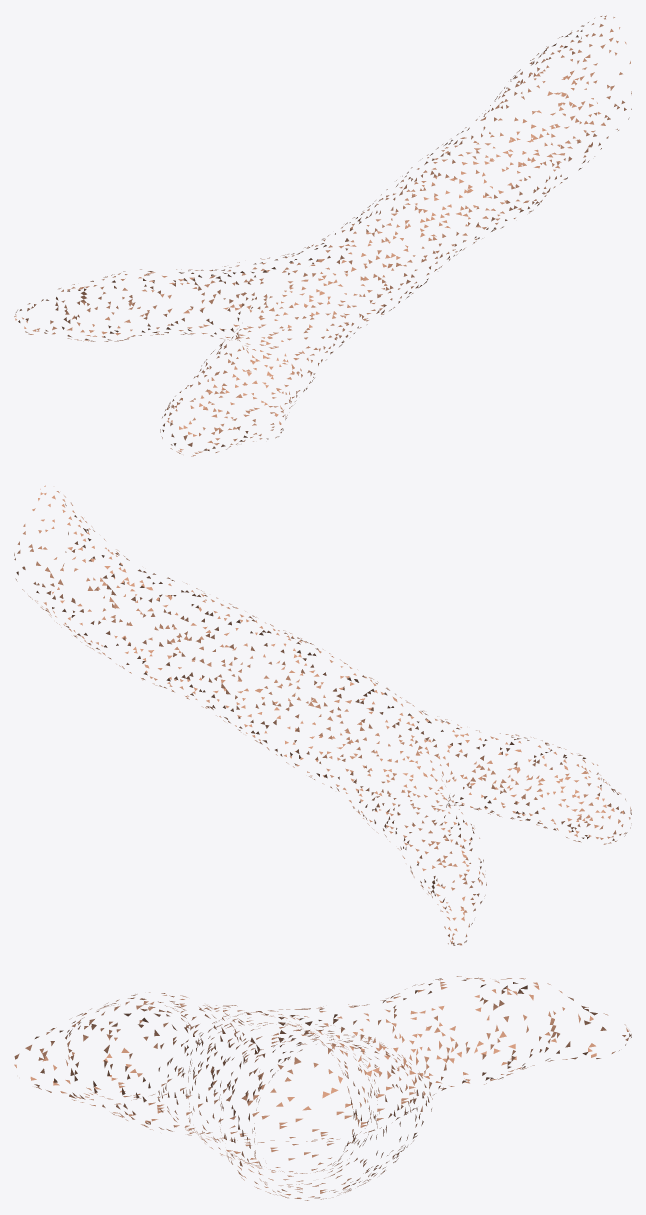
The model's file is morph_004.glb.
3 views of the same model, one above another, from view 1: azimuth 30°, elevation 25°; view 2: azimuth 150°, elevation 25°; view 3: azimuth 270°, elevation 25° (orthographic). The views are drawn at different scales.
Size of the model in its own units: 84.4 by 43.33 by 56.95.
